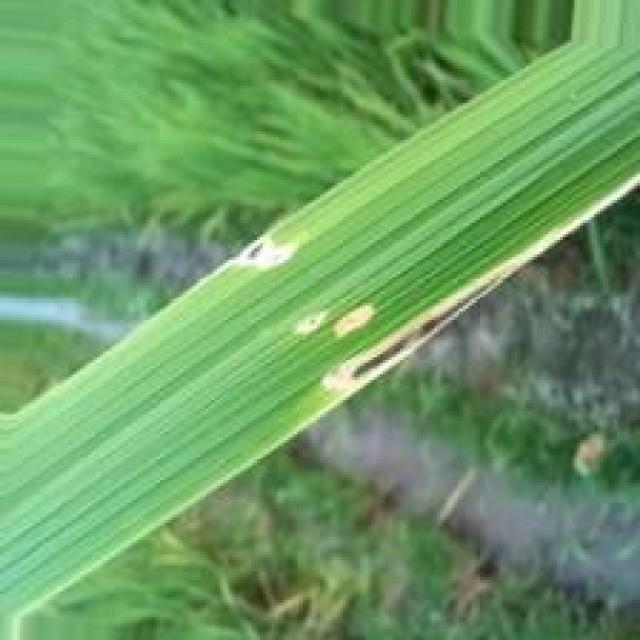Rice_Hispa: (312, 167, 640, 392)
